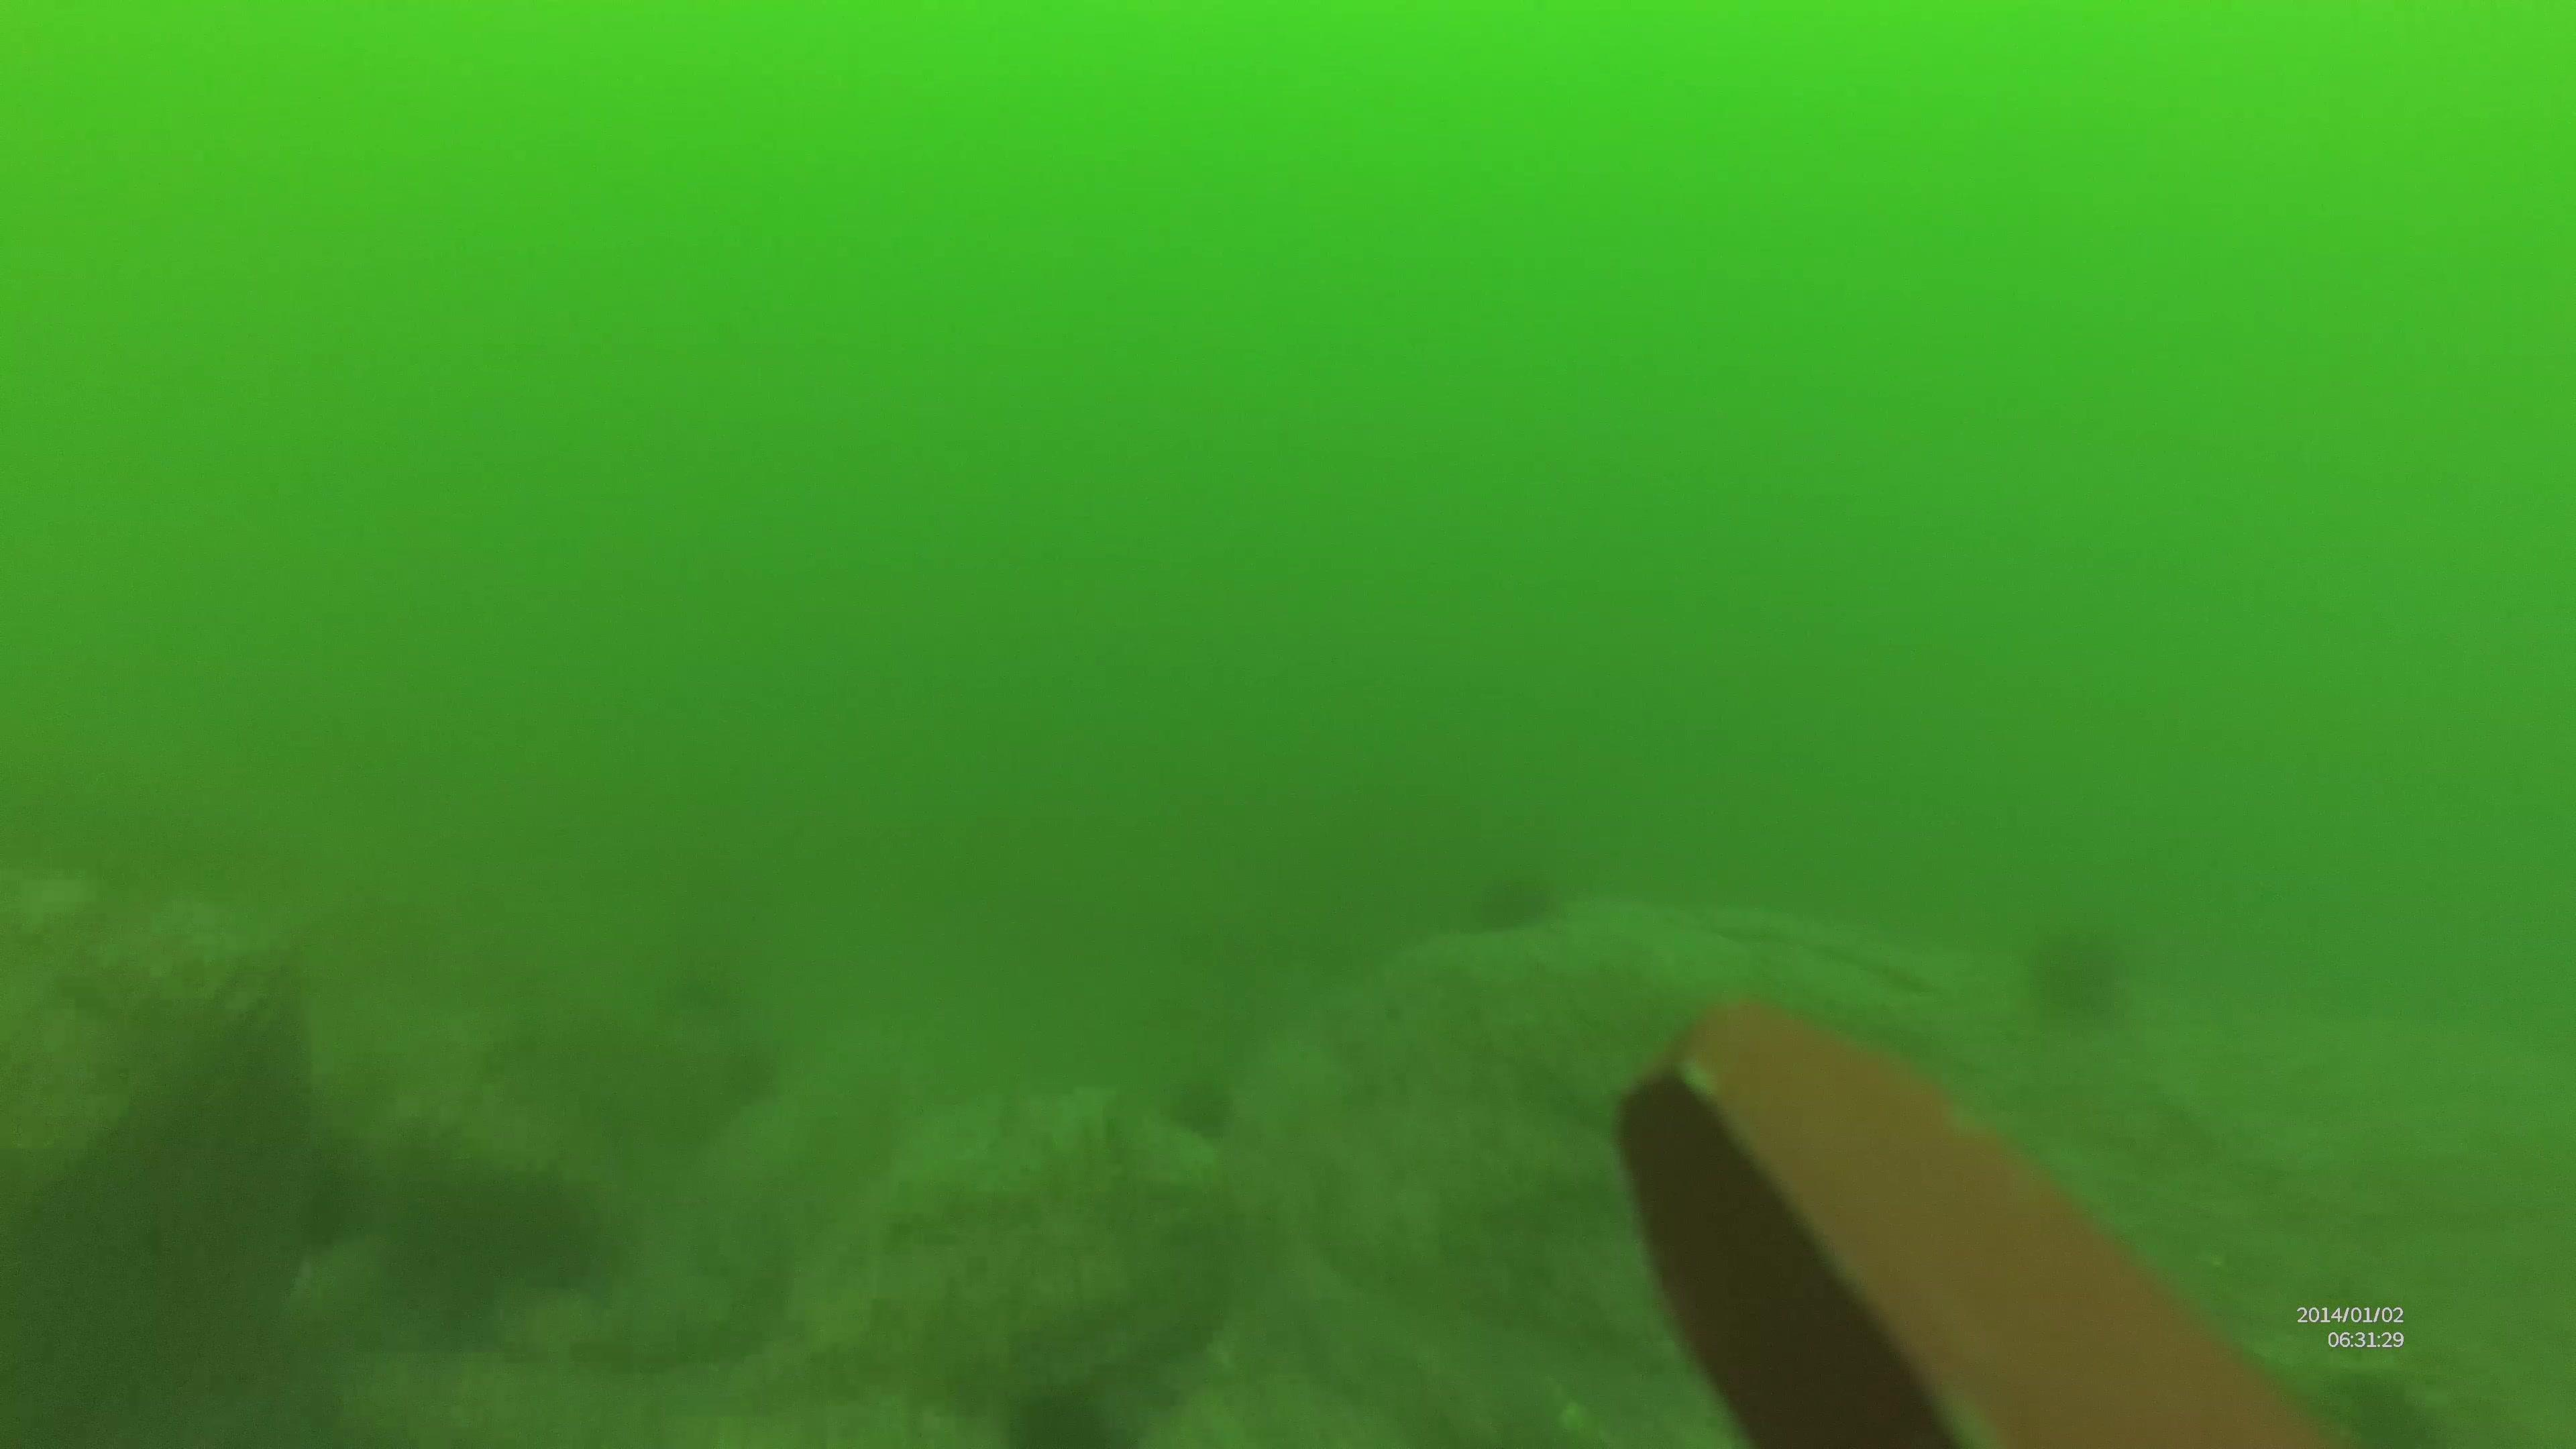echinus: (2022, 925, 2134, 1044), (1000, 1384, 1134, 1449), (1476, 878, 1568, 962)
